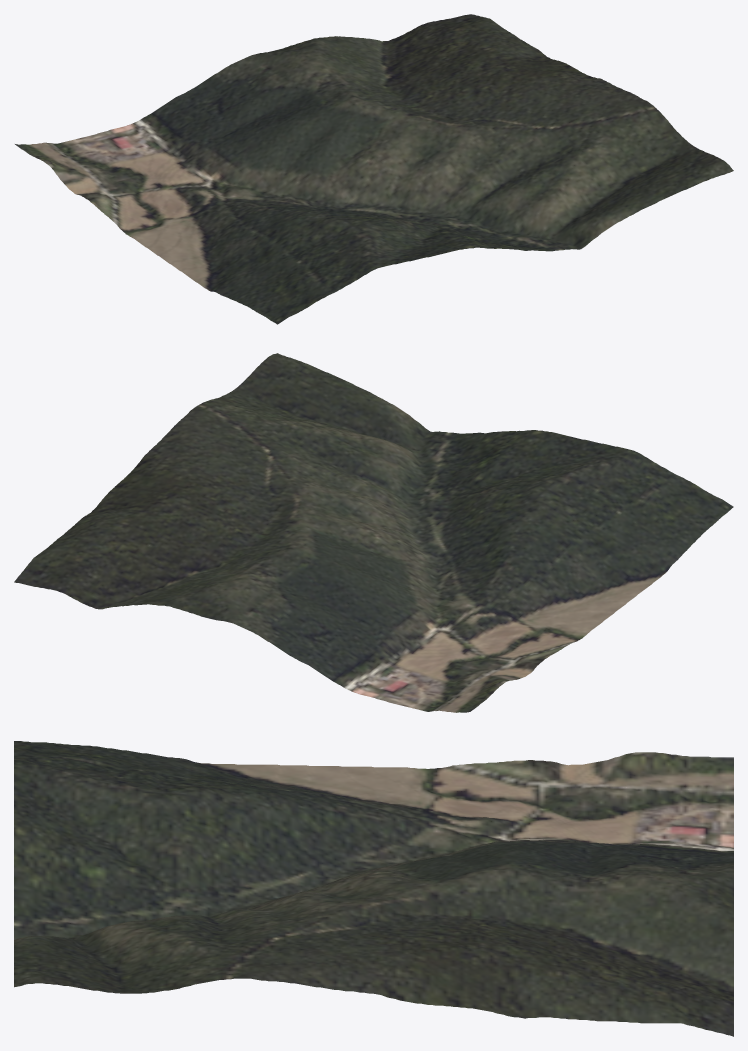
Rendered from tile_3_2.glb.
3 views of the same model, one above another, from view 1: azimuth 30°, elevation 25°; view 2: azimuth 150°, elevation 25°; view 3: azimuth 270°, elevation 25° (orthographic). The views are drawn at different scales.
Parts seen in each view (by area): view 1: tile_3_2; view 2: tile_3_2; view 3: tile_3_2.
Boxes of the visible parts, x1,y1,x2,y2 form: tile_3_2: (15, 14, 733, 324); tile_3_2: (14, 353, 733, 712); tile_3_2: (14, 741, 733, 1036).
Size of the model in its own units: 1000 by 151 by 1000.
Materials: 1 (1 with a texture image).
